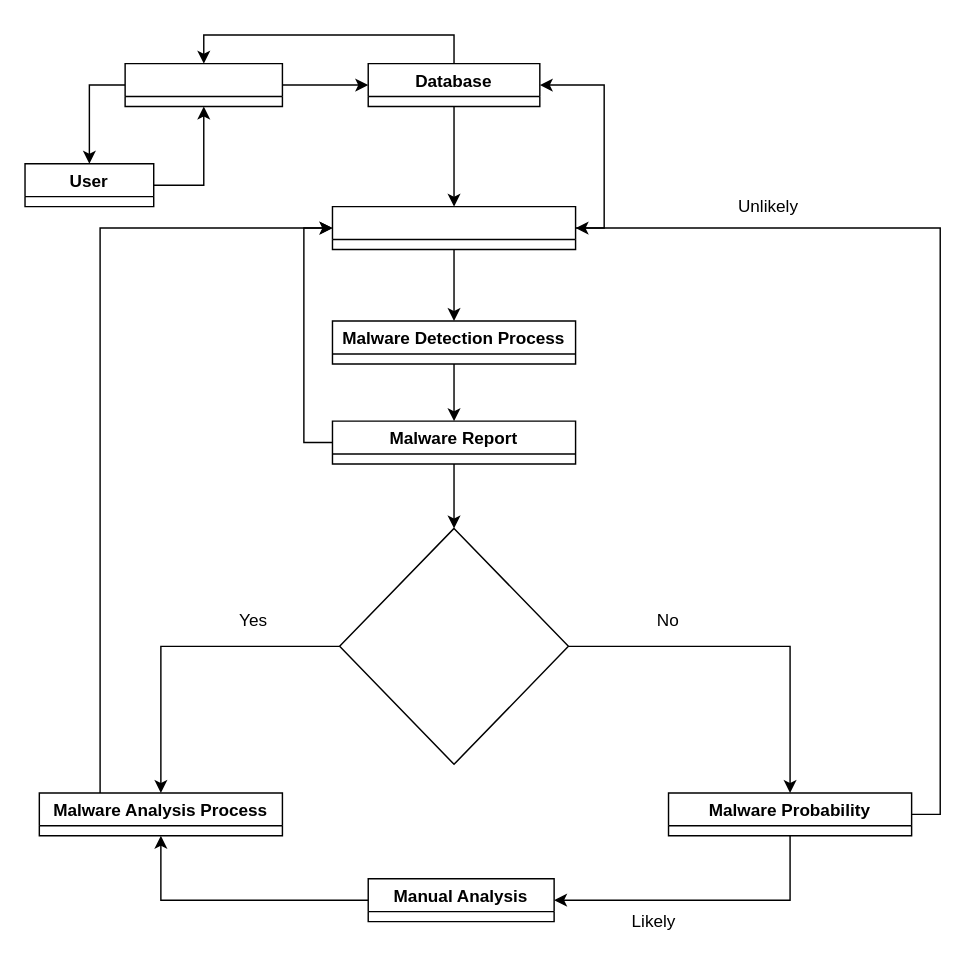
This 977x961 diagram has some shape labels left out. The box of each missing label's shape, as (x1, y1, x2, y2) in pixels:
Analysis Coordinator: (331, 205, 576, 250)
Interface: (124, 62, 282, 107)
MALWARE FOUND?: (338, 527, 568, 764)
